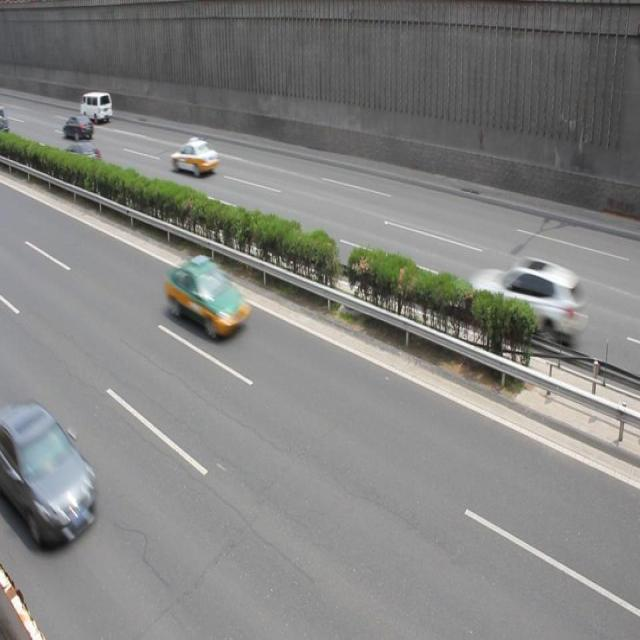car: (1, 398, 97, 551), (467, 255, 587, 352), (166, 252, 253, 342), (170, 137, 219, 178), (60, 141, 103, 177), (64, 116, 94, 141)
truck: (81, 92, 113, 124)
